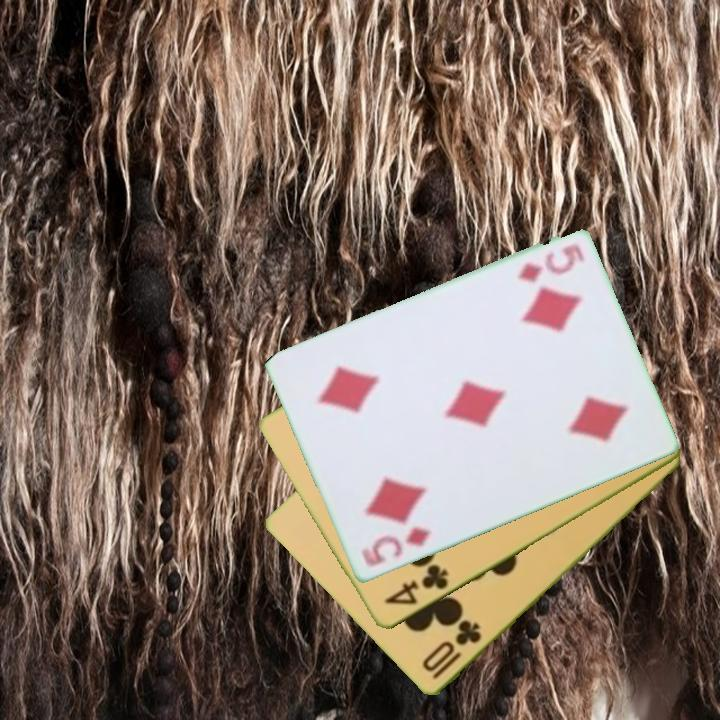10c: (418, 617, 484, 683)
4c: (380, 561, 451, 609)
5d: (357, 524, 435, 570), (513, 248, 579, 286)
